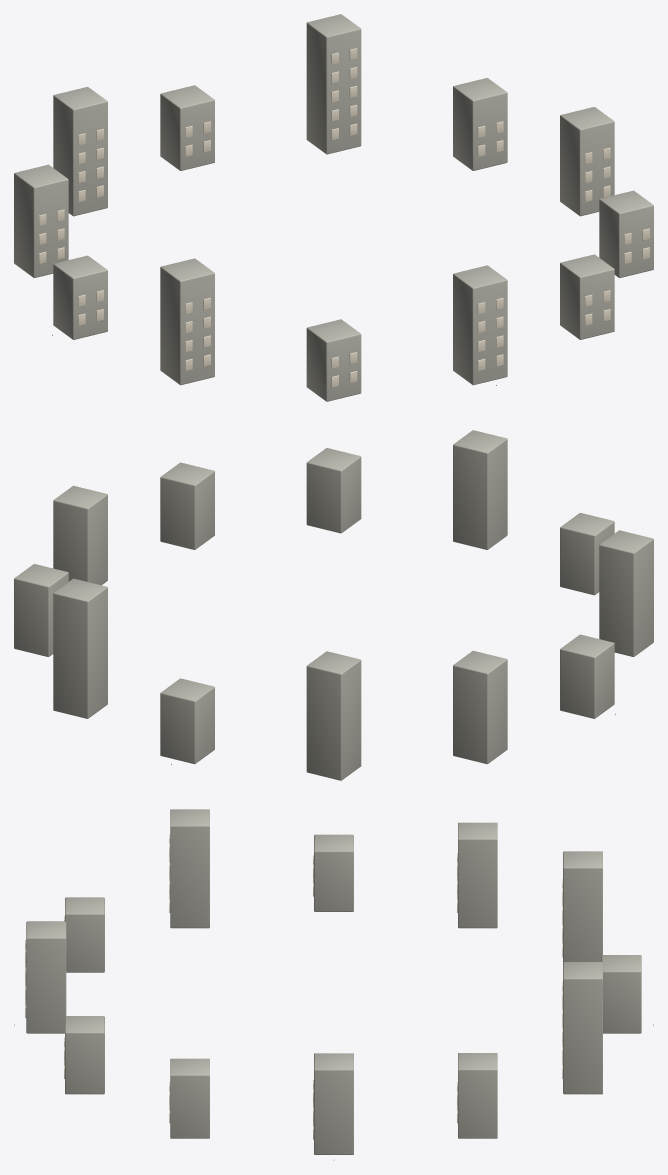
Rendered from backdrop-city.glb.
The picture shows the model from 3 angles, top to bottom: view 1: azimuth 30°, elevation 25°; view 2: azimuth 150°, elevation 25°; view 3: azimuth 270°, elevation 25°; orthographic projection.
Visible parts, largest first — view 1: backdrop-city; view 2: backdrop-city; view 3: backdrop-city.
Part boxes in pixels (x1=…): backdrop-city: x1=14, y1=14, x2=653, y2=401; backdrop-city: x1=14, y1=430, x2=653, y2=780; backdrop-city: x1=14, y1=809, x2=653, y2=1160.
Bounding box in the file's own units: 40 × 8 × 40.
